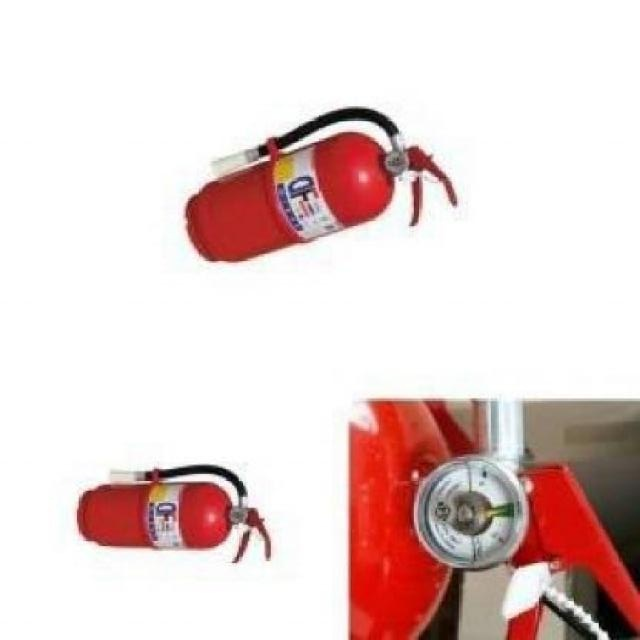fire extinguisher: (351, 398, 640, 640), (183, 106, 459, 265), (77, 465, 272, 563)
